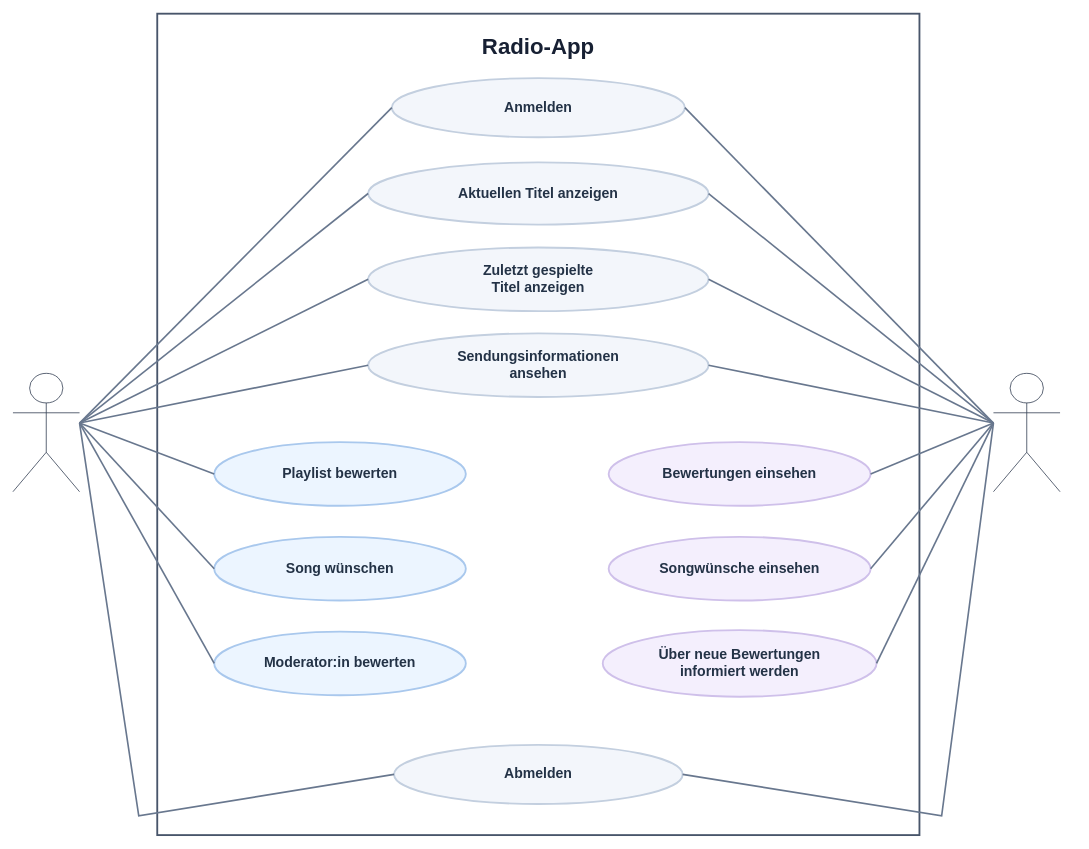
This 1089x849 diagram has some shape labels left out. Each missing label, with the centre of its shape:
"Hörer:in" belongs at point 46,432.
"Moderator:in" belongs at point 1026,432.
